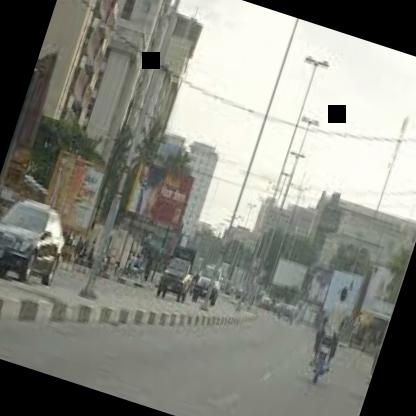car: (0, 182, 86, 297), (150, 233, 206, 314), (180, 250, 233, 308)
